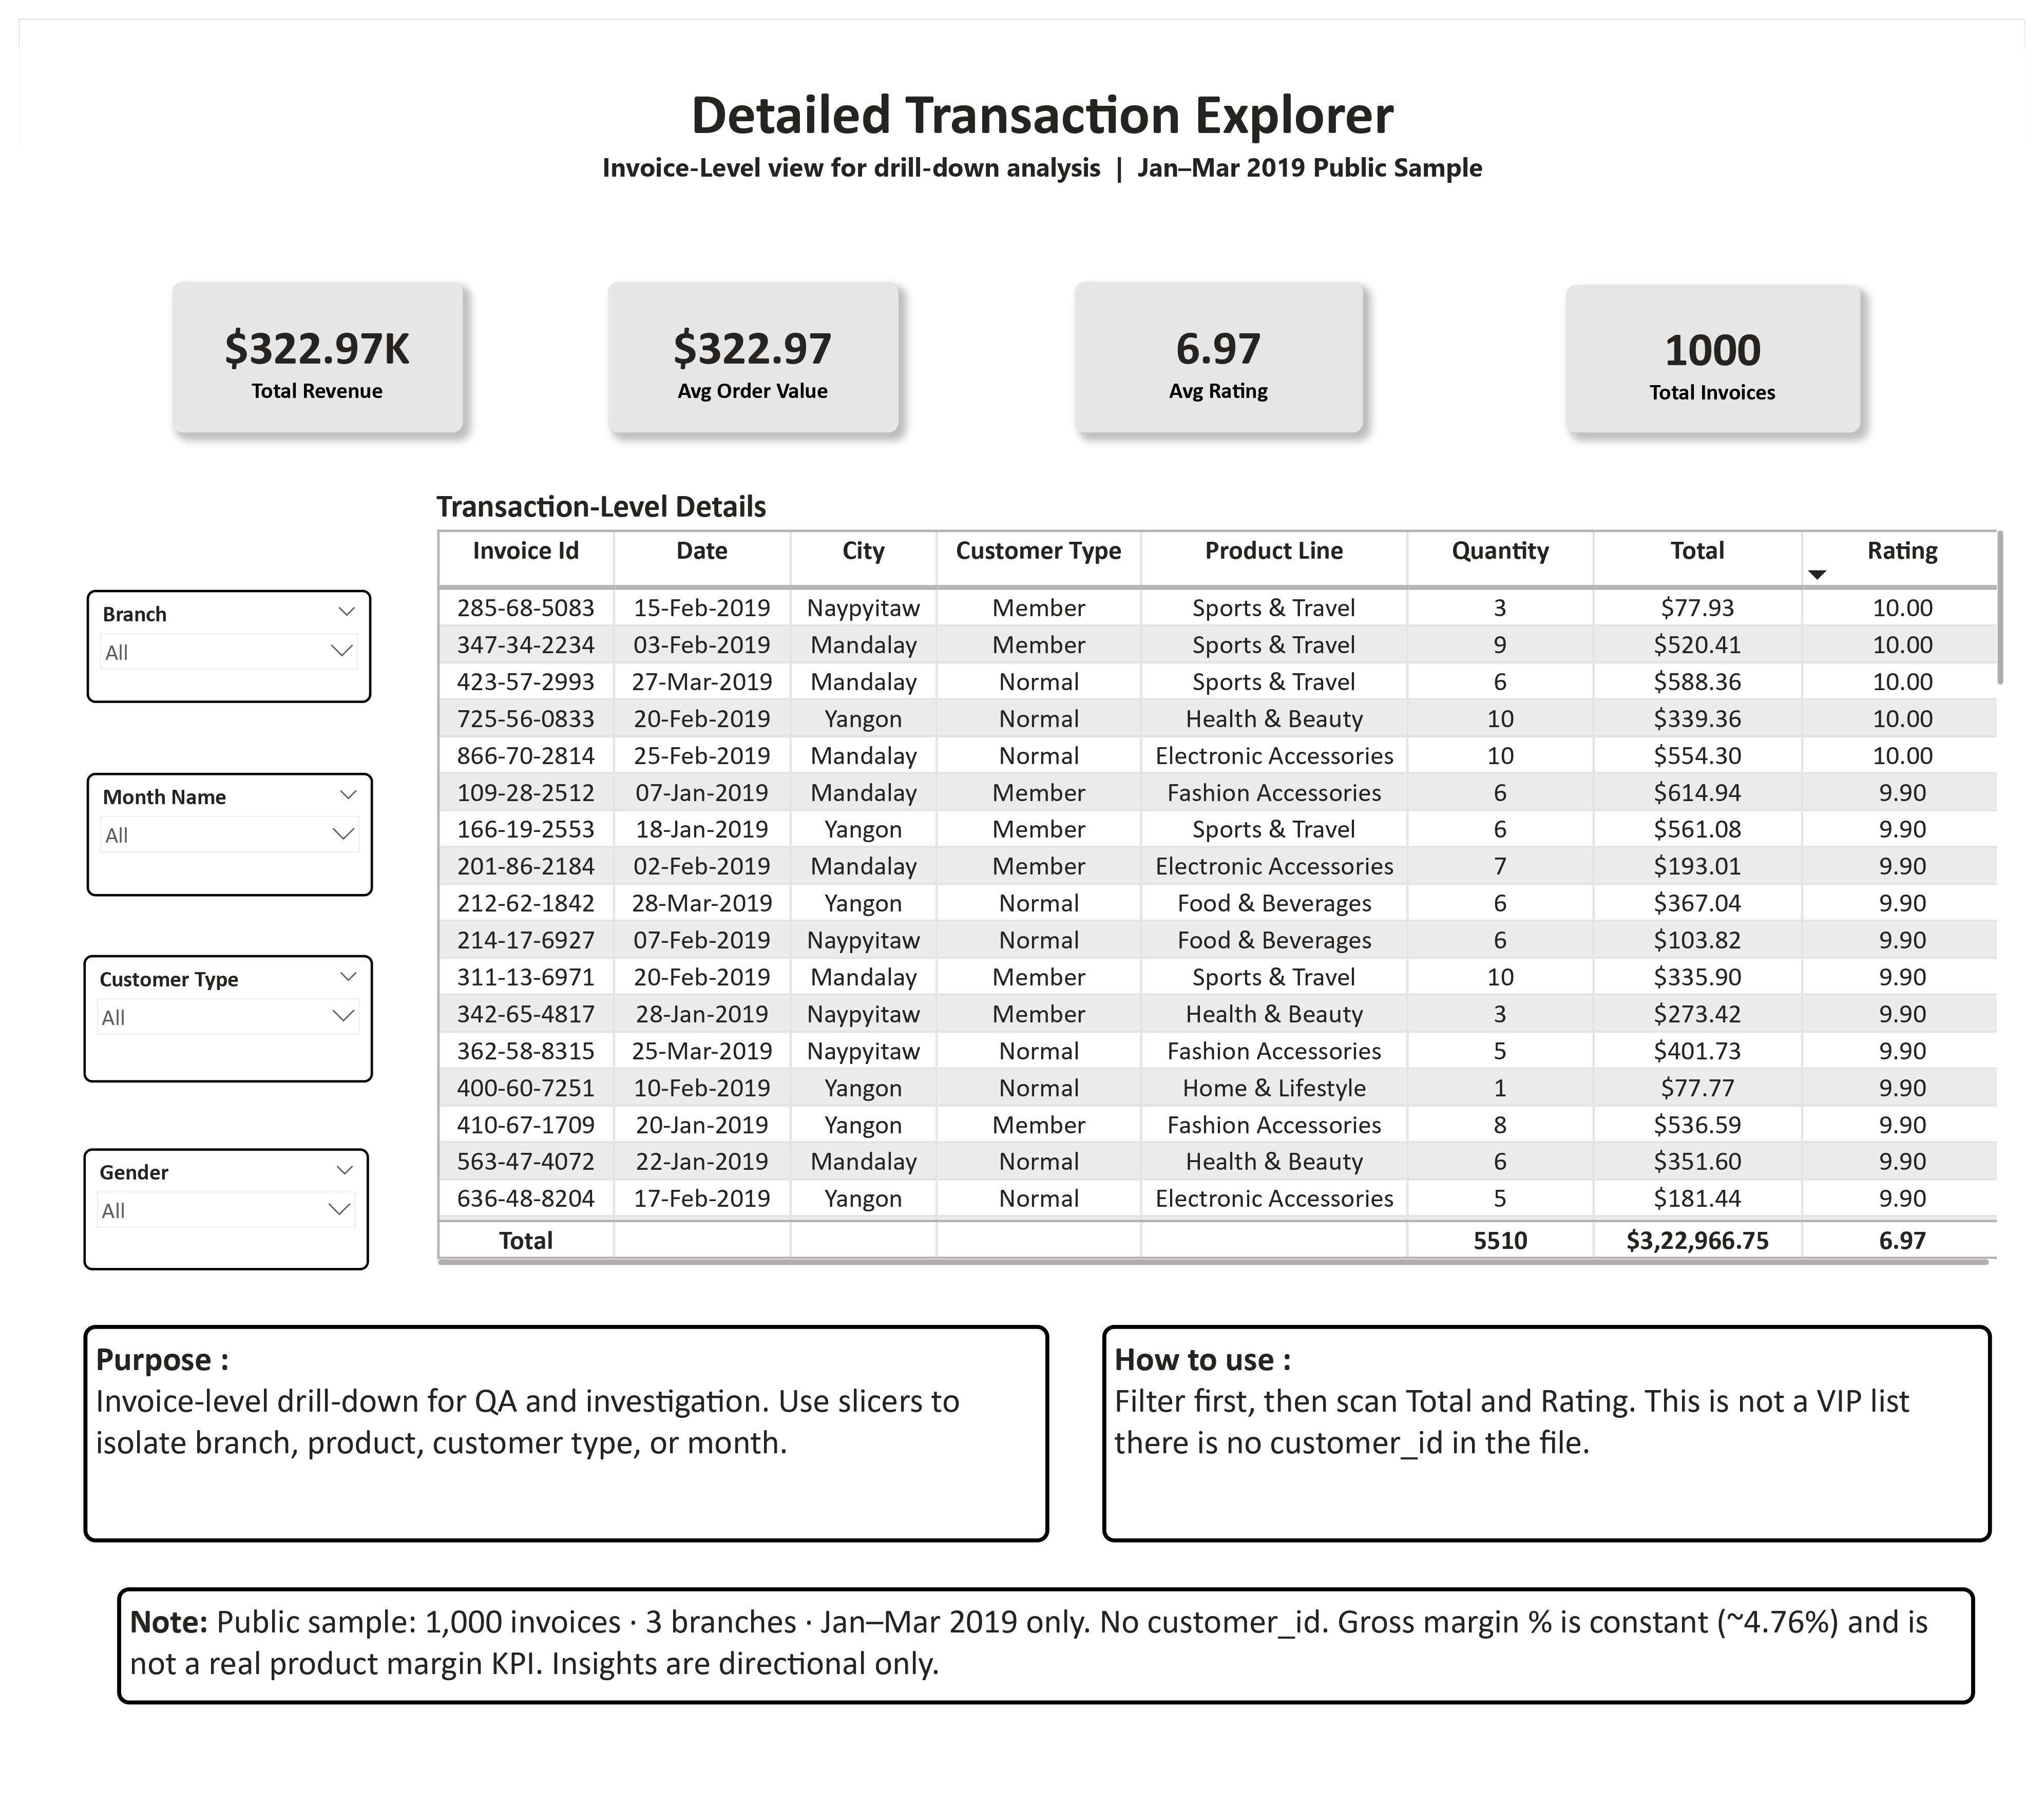

The page's visual inventory and layout, read from the dashboard file:
{"tool":"powerbi","page":{"name":"Page 4","canvas":[2500,2200],"ordinal":3},"visuals":[{"type":"card","fields":{"Values":["super_market_retail.Total Revenue"]},"box":[190.7,326.5,362.2,188.3],"z":0},{"type":"card","fields":{"Values":["super_market_retail.Total Invoices"]},"box":[1928,331.3,367,183.5],"z":1000},{"type":"card","fields":{"Values":["super_market_retail.Average Order Value"]},"box":[734,326.5,362.2,188.3],"z":2000},{"type":"card","fields":{"Values":["super_market_retail.Average Rating"]},"box":[1315.5,326.5,359.9,188.3],"z":3000},{"type":"tableEx","title":"Transaction-Level Details","fields":{"Values":["super_market_retail.invoice_id","super_market_retail.Invoice Date","super_market_retail.city","super_market_retail.customer_type","super_market_retail.product_line","Sum(super_market_retail.quantity)","Sum(super_market_retail.total)","super_market_retail.Average Rating"]},"box":[514.8,581.5,1963.8,977.1],"z":4000},{"type":"slicer","fields":{"Values":["super_market_retail.branch"]},"box":[84.1,711.4,354.5,140.9],"z":5000},{"type":"slicer","fields":{"Values":["super_market_retail.Month Name"]},"box":[84.1,938.6,356.8,154.5],"z":6000},{"type":"slicer","fields":{"Values":["super_market_retail.customer_type"]},"box":[79.5,1165.9,361.4,159.1],"z":7000},{"type":"slicer","fields":{"Values":["super_market_retail.gender"]},"box":[79.5,1406.8,356.8,152.3],"z":8000},{"type":"textbox","box":[147.7,68.2,2311.4,172.7],"z":9000},{"type":"textbox","box":[79.5,1627.3,1204.5,270.5],"z":10000},{"type":"textbox","box":[1350,1627.3,1109.1,270.5],"z":11000},{"type":"textbox","box":[121.5,1954.2,2316.5,145.4],"z":12000}]}

Visuals, with their boxes in screenshot pixels (x1, y1, x2, y2), scaled from the page's 2500x2200 canvas onto the 2044x1804 screenshot:
card - super_market_retail.Total Revenue: 156 268 452 422
card - super_market_retail.Total Invoices: 1576 272 1877 422
card - super_market_retail.Average Order Value: 600 268 896 422
card - super_market_retail.Average Rating: 1076 268 1370 422
"Transaction-Level Details" tableEx: 421 477 2027 1278
slicer - super_market_retail.branch: 69 583 358 699
slicer - super_market_retail.Month Name: 69 770 360 896
slicer - super_market_retail.customer_type: 65 956 360 1087
slicer - super_market_retail.gender: 65 1153 357 1279
textbox: 121 56 2011 198
textbox: 65 1335 1050 1556
textbox: 1104 1335 2011 1556
textbox: 99 1603 1993 1722
